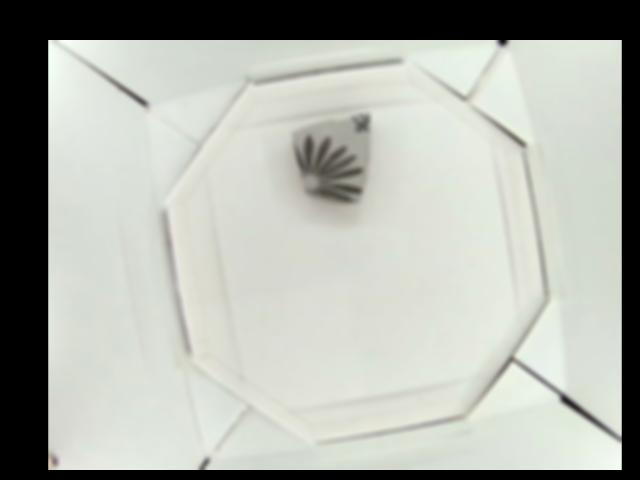China: (291, 113, 370, 203)
